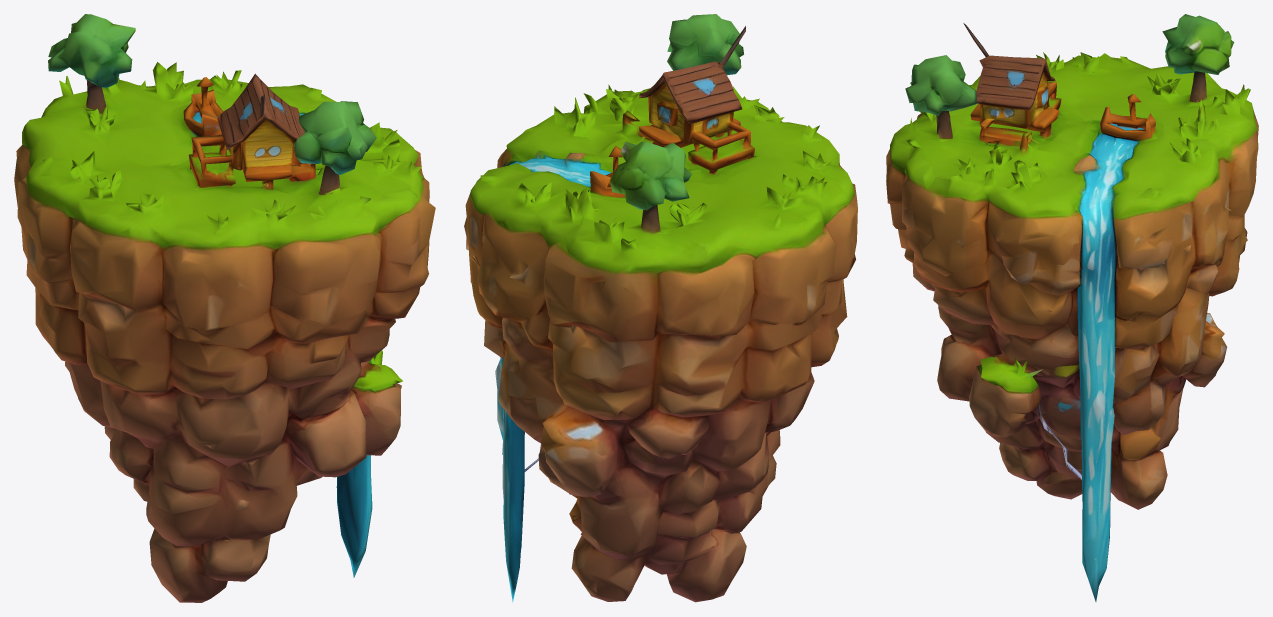
File: waterfall-island.glb
3 views of the same model, side by side, from view 1: azimuth 30°, elevation 25°; view 2: azimuth 150°, elevation 25°; view 3: azimuth 270°, elevation 25° (orthographic). The views are drawn at different scales.
Visible parts, largest first — view 1: tripo_node_2324ef52-6512-4608-bbfe-0e4a9a511502; view 2: tripo_node_2324ef52-6512-4608-bbfe-0e4a9a511502; view 3: tripo_node_2324ef52-6512-4608-bbfe-0e4a9a511502.
Part boxes in pixels (bbox=[...]): tripo_node_2324ef52-6512-4608-bbfe-0e4a9a511502: bbox=[14, 14, 435, 602]; tripo_node_2324ef52-6512-4608-bbfe-0e4a9a511502: bbox=[464, 14, 857, 602]; tripo_node_2324ef52-6512-4608-bbfe-0e4a9a511502: bbox=[886, 14, 1258, 601].
Bounding box in the file's own units: 20 × 30.84 × 20.43.
Materials: 1 (1 with a texture image).
